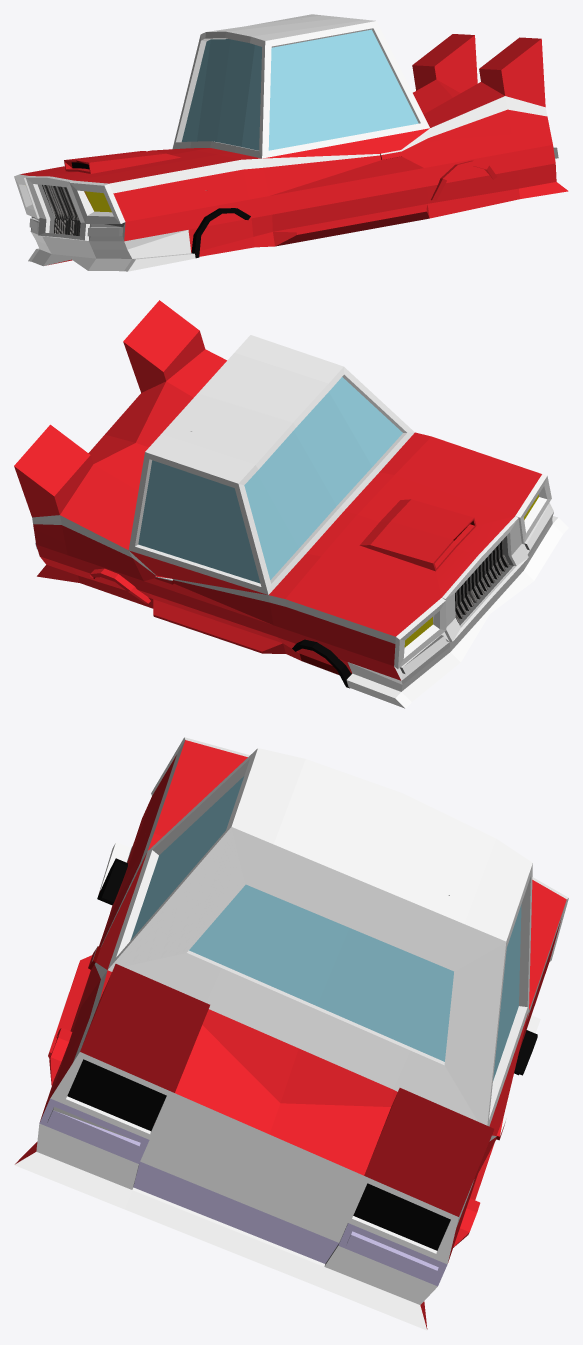
Rendered from carro.obj.
The picture shows the model from 3 angles, top to bottom: view 1: azimuth 30°, elevation 25°; view 2: azimuth 150°, elevation 25°; view 3: azimuth 270°, elevation 25°; orthographic projection. The views are drawn at different scales.
Visible parts, largest first — view 1: carro:polySurface147; view 2: carro:polySurface147; view 3: carro:polySurface147.
Boxes of the visible parts, x1=… form: carro:polySurface147: x1=14, y1=14, x2=568, y2=271; carro:polySurface147: x1=14, y1=300, x2=568, y2=708; carro:polySurface147: x1=14, y1=737, x2=568, y2=1330.
Bounding box in the file's own units: 4.45 × 2.35 × 2.98.
